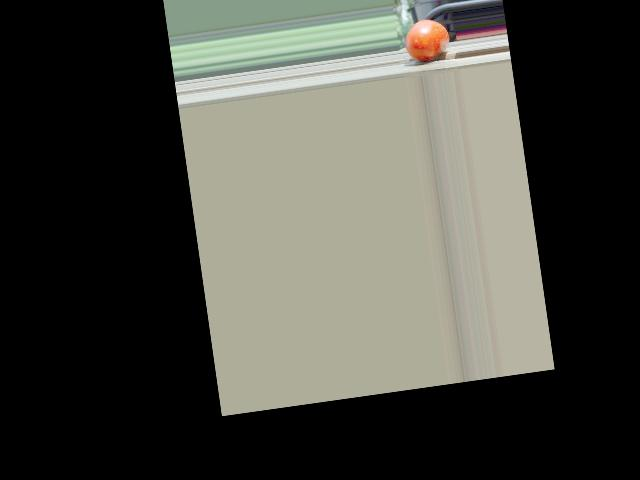tomato: (401, 16, 451, 62)
